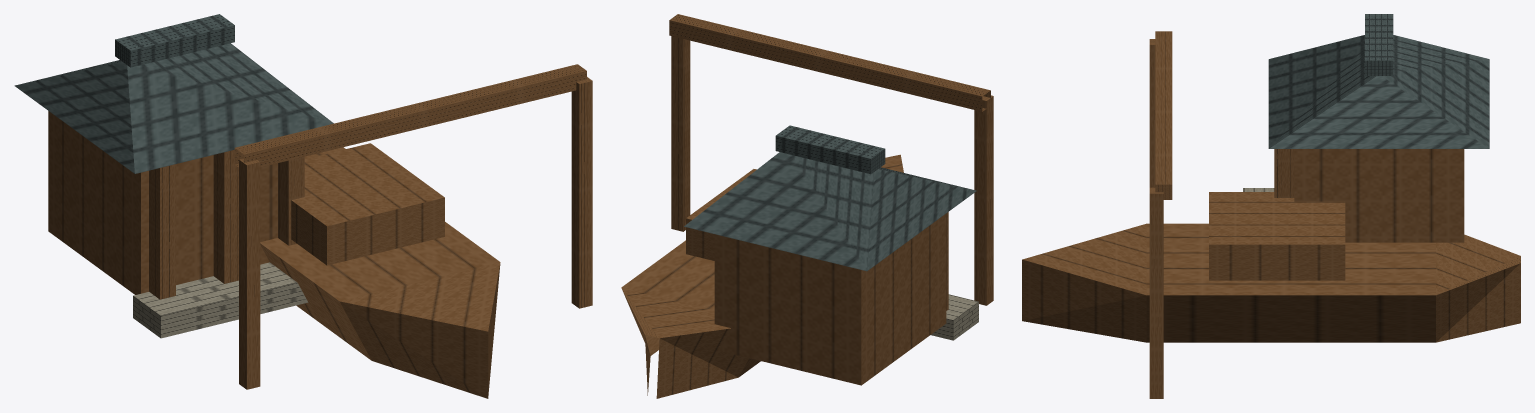
The model's file is domestic-SHIPYARD-1-lod0.glb.
3 renders of one model, left to right at view 1: azimuth 30°, elevation 25°; view 2: azimuth 150°, elevation 25°; view 3: azimuth 270°, elevation 25°, orthographic. The views are drawn at different scales.
Size of the model in its own units: 0.7325 by 0.45 by 0.88.
1 material, 1 textured.
